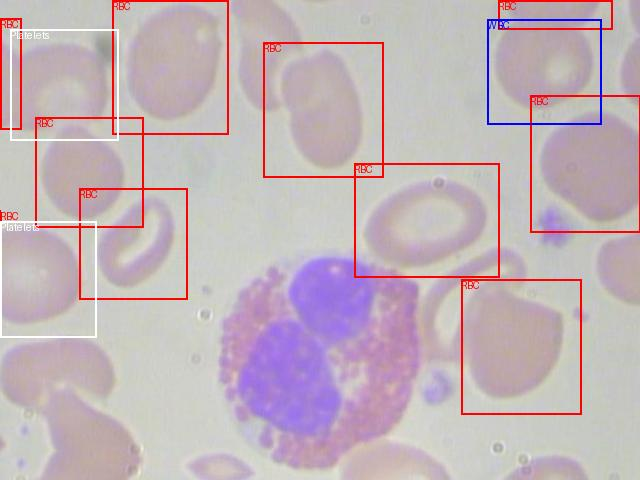Platelets: (10, 29, 118, 140), (0, 221, 96, 337)
RBC: (354, 163, 499, 277), (461, 279, 581, 414), (263, 42, 383, 177), (112, 0, 228, 134), (530, 95, 640, 232), (79, 188, 187, 299), (35, 117, 143, 227), (498, 0, 612, 29), (0, 18, 21, 129)
WBC: (487, 19, 601, 124)
